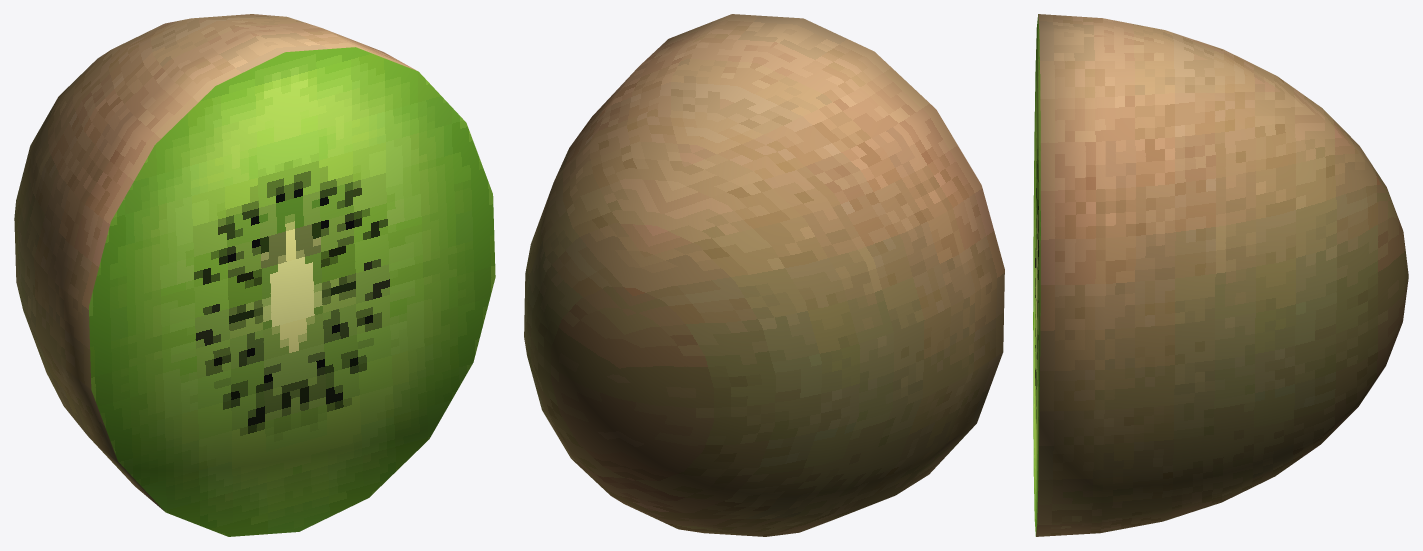
Rendered from kiwi.glb.
3 views of the same model, side by side, from view 1: azimuth 30°, elevation 25°; view 2: azimuth 150°, elevation 25°; view 3: azimuth 270°, elevation 25° (orthographic).
Visible parts, largest first — view 1: Inst3D29_RefRep.250; view 2: Inst3D29_RefRep.250; view 3: Inst3D29_RefRep.250.
Boxes of the visible parts, x1,y1,x2,y2 form: Inst3D29_RefRep.250: (14, 14, 495, 536); Inst3D29_RefRep.250: (524, 14, 1004, 536); Inst3D29_RefRep.250: (1033, 14, 1408, 536).
Size of the model in its own units: 10.57 by 11.86 by 8.39.
Materials: 1 (1 with a texture image).
